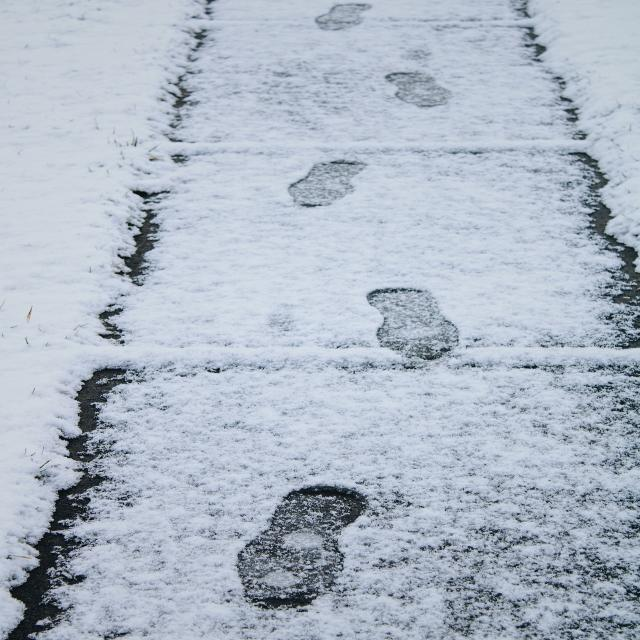human_footprint: (173, 4, 486, 638), (232, 480, 370, 613)
